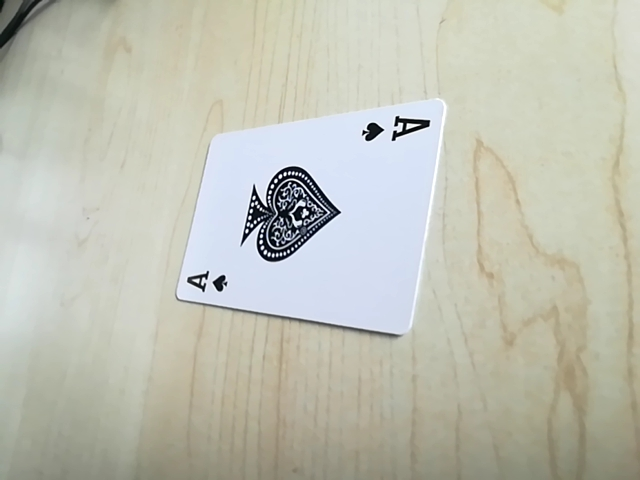ht a: (358, 109, 431, 149), (175, 266, 233, 300)
